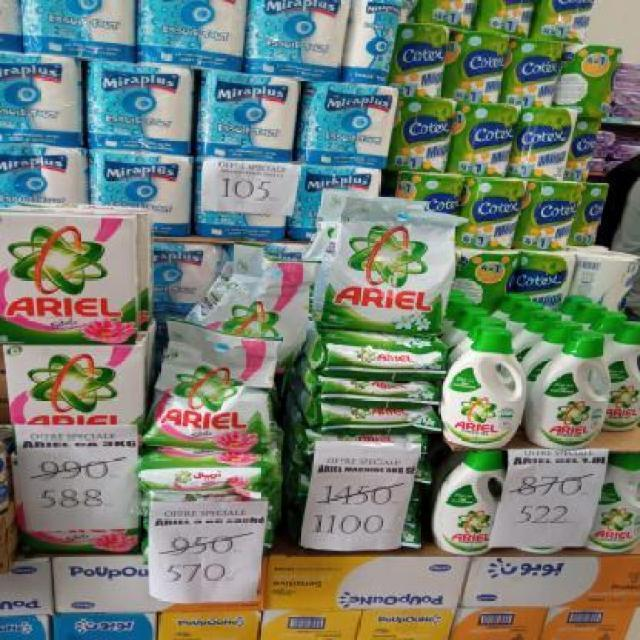Detergent: (323, 198, 458, 334), (0, 213, 140, 344), (139, 325, 274, 456), (2, 342, 146, 426), (436, 326, 527, 448), (532, 338, 610, 449), (314, 332, 450, 383), (435, 448, 496, 556), (138, 452, 281, 498), (595, 449, 640, 554), (600, 322, 640, 433), (317, 377, 443, 410), (315, 406, 442, 432)
